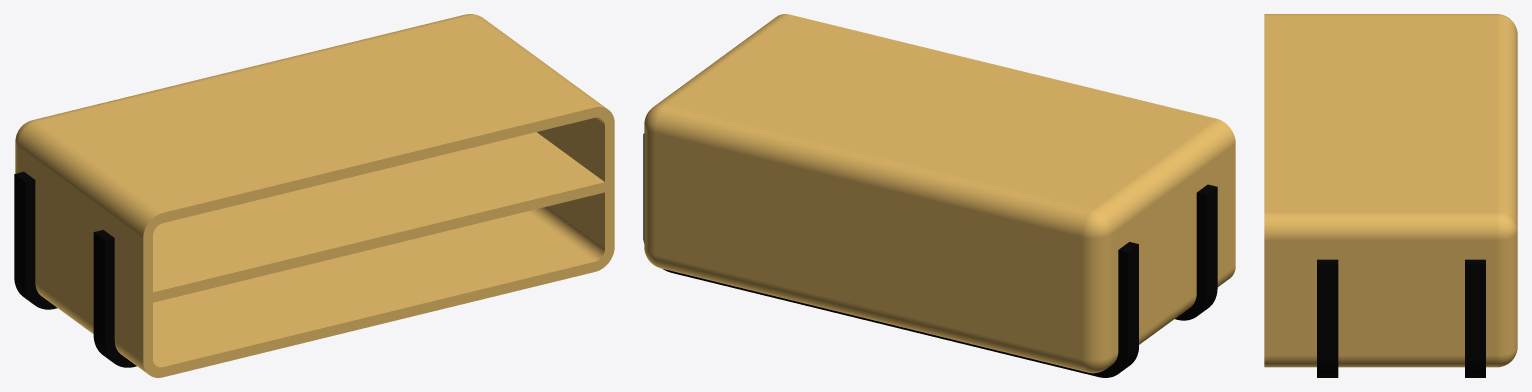
Rendered from furniture.gltf.
3 views of the same model, side by side, from view 1: azimuth 30°, elevation 25°; view 2: azimuth 150°, elevation 25°; view 3: azimuth 270°, elevation 25° (orthographic). The views are drawn at different scales.
Parts seen in each view (by area): view 1: body_clone, stand_clone; view 2: body_clone, stand_clone; view 3: body_clone, stand_clone.
Boxes of the visible parts, x1,y1,x2,y2 form: body_clone: [15, 14, 614, 377]; stand_clone: [14, 171, 136, 367]; body_clone: [644, 14, 1235, 373]; stand_clone: [643, 133, 1217, 377]; body_clone: [1264, 14, 1517, 367]; stand_clone: [1317, 259, 1485, 377].
Size of the model in its own units: 1.25 by 0.425 by 0.6.
